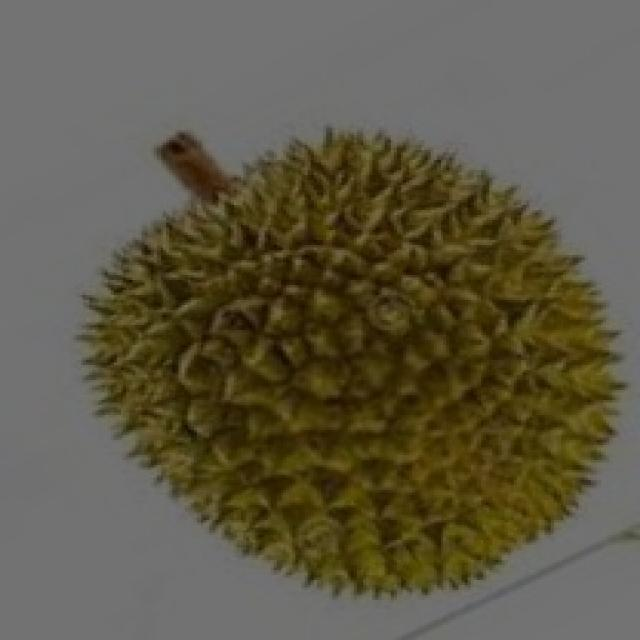fruit: (34, 265, 406, 637), (286, 257, 640, 640)
